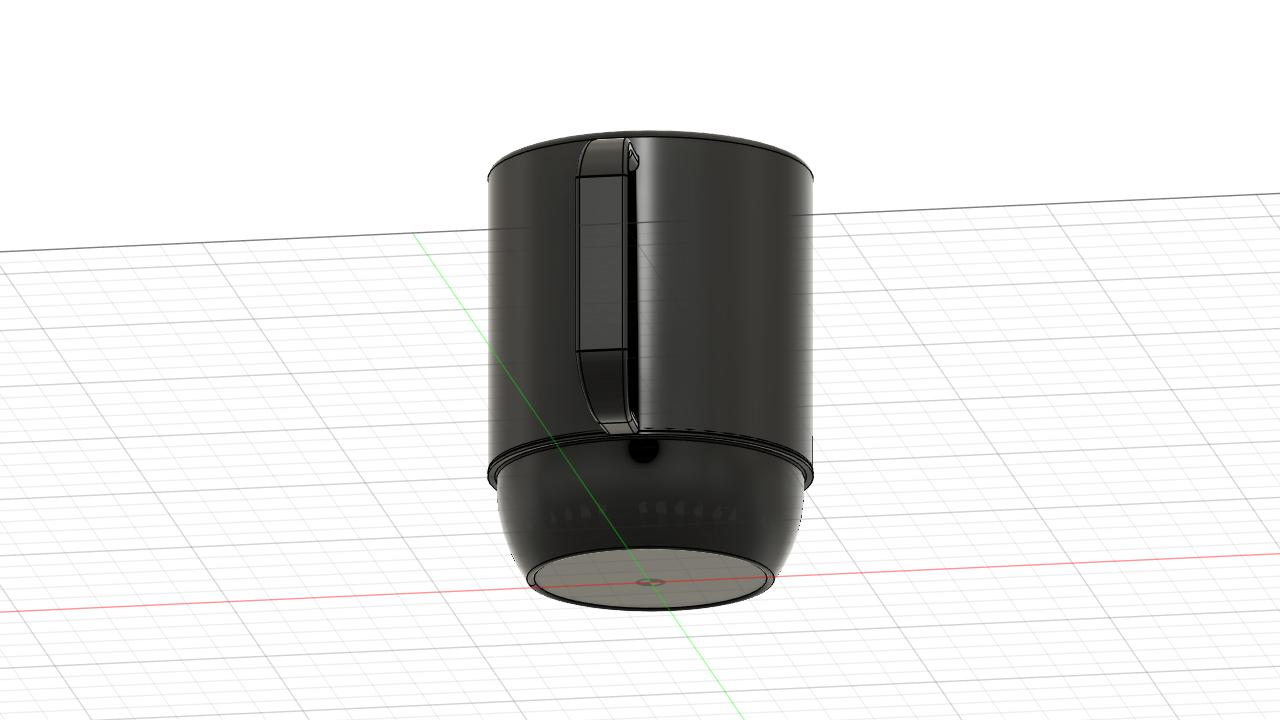mug-real100-3d100: (487, 131, 813, 608)
